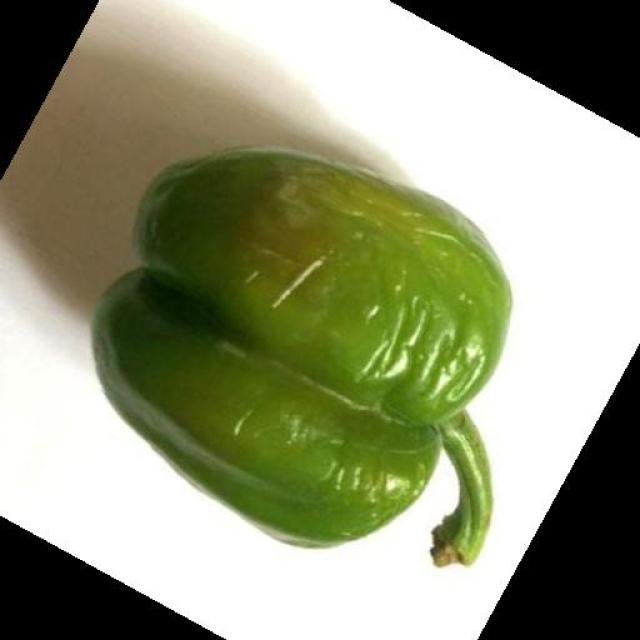Stale_Capsicum: (80, 146, 541, 579)
